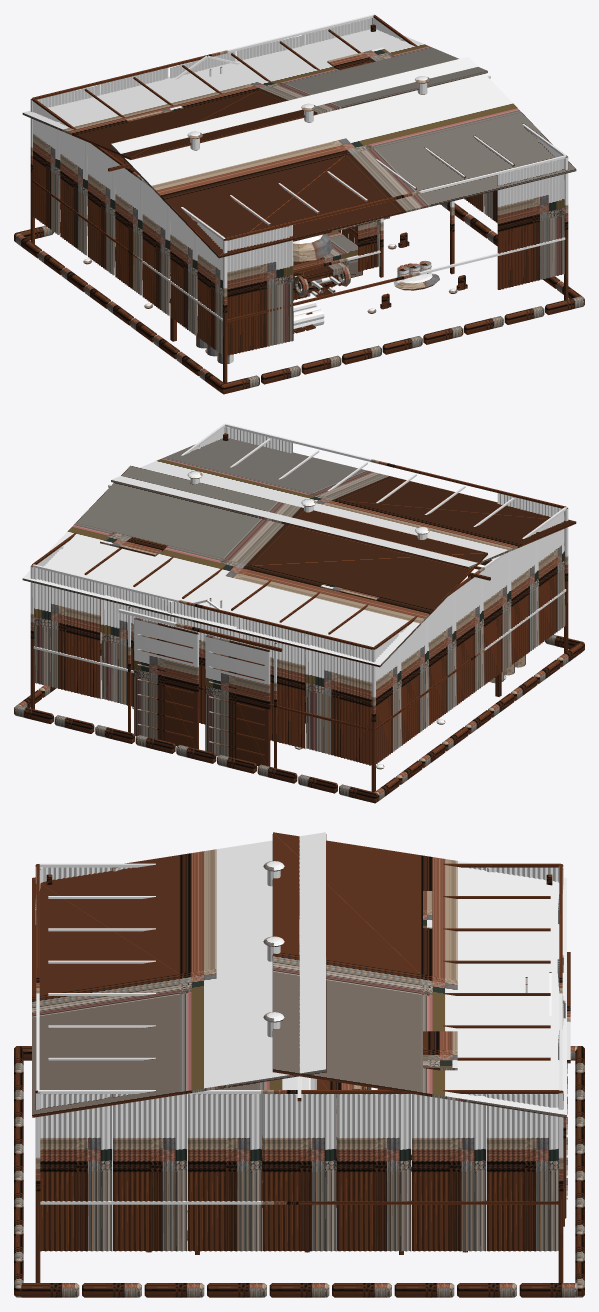
File: works.glb
The picture shows the model from 3 angles, top to bottom: view 1: azimuth 30°, elevation 25°; view 2: azimuth 150°, elevation 25°; view 3: azimuth 270°, elevation 25°; orthographic projection. The views are drawn at different scales.
Visible parts, largest first — view 1: warehouse-tin-hall-roof-plane-1, warehouse-tin-hall-roof-plane--1, warehouse-tin-hall-wall-sheet-1-4, warehouse-tin-hall-wall-sheet-1-0, warehouse-tin-hall-side-sheet--1-4, warehouse-tin-hall-side-sheet--1-3, warehouse-tin-hall-side-sheet--1-2, warehouse-tin-hall-side-sheet--1-1, warehouse-tin-hall-side-sheet--1-0, warehouse-tin-hall-side-sheet--1-5, warehouse-tin-hall-side-sheet--1-6, warehouse-tin-hall-front-girt-8.7-10.25 (+15 smaller); view 2: warehouse-tin-hall-roof-plane--1, warehouse-tin-hall-roof-plane-1, warehouse-loading-door-leaf--1, warehouse-loading-door-leaf-1, warehouse-tin-hall-wall-sheet--1-0, warehouse-tin-hall-wall-sheet--1-4, warehouse-tin-hall-wall-sheet--1-1, warehouse-tin-hall-wall-sheet--1-3, warehouse-tin-hall-side-sheet--1-4, warehouse-tin-hall-side-sheet--1-3, warehouse-tin-hall-side-sheet--1-2, warehouse-tin-hall-side-sheet--1-5 (+15 smaller); view 3: warehouse-tin-hall-roof-plane-1, warehouse-tin-hall-roof-plane--1, warehouse-tin-hall-side-sheet-1-4, warehouse-tin-hall-side-sheet-1-2, warehouse-tin-hall-side-sheet-1-3, warehouse-tin-hall-side-sheet-1-5, warehouse-tin-hall-side-sheet-1-1, warehouse-tin-hall-side-sheet-1-0, warehouse-tin-hall-side-sheet-1-6, warehouse-tin-hall-side-girt-3.9149999999999996-10.5, warehouse-roof-repair-7--5, warehouse-tin-hall-side-girt-8.7-10.5 (+23 smaller).
Boxes of the visible parts, left/top/right/bottom form: warehouse-tin-hall-roof-plane-1: left=111, top=56, right=576, bottom=258; warehouse-tin-hall-roof-plane--1: left=22, top=28, right=487, bottom=159; warehouse-tin-hall-wall-sheet-1-4: left=497, top=159, right=564, bottom=289; warehouse-tin-hall-wall-sheet-1-0: left=227, top=225, right=293, bottom=355; warehouse-tin-hall-side-sheet--1-4: left=142, top=182, right=170, bottom=315; warehouse-tin-hall-side-sheet--1-3: left=115, top=162, right=142, bottom=295; warehouse-tin-hall-side-sheet--1-2: left=88, top=142, right=115, bottom=275; warehouse-tin-hall-side-sheet--1-1: left=60, top=121, right=87, bottom=255; warehouse-tin-hall-side-sheet--1-0: left=33, top=101, right=60, bottom=234; warehouse-tin-hall-side-sheet--1-5: left=170, top=208, right=197, bottom=335; warehouse-tin-hall-side-sheet--1-6: left=197, top=222, right=222, bottom=355; warehouse-tin-hall-front-girt-8.7-10.25: left=225, top=155, right=566, bottom=240; warehouse-tin-hall-roof-plane--1: left=22, top=465, right=487, bottom=667; warehouse-tin-hall-roof-plane-1: left=111, top=438, right=576, bottom=568; warehouse-loading-door-leaf--1: left=205, top=635, right=270, bottom=766; warehouse-loading-door-leaf-1: left=134, top=617, right=198, bottom=749; warehouse-tin-hall-wall-sheet--1-0: left=305, top=634, right=372, bottom=765; warehouse-tin-hall-wall-sheet--1-4: left=32, top=567, right=100, bottom=698; warehouse-tin-hall-wall-sheet--1-1: left=236, top=617, right=305, bottom=748; warehouse-tin-hall-wall-sheet--1-3: left=101, top=584, right=168, bottom=707; warehouse-tin-hall-side-sheet--1-4: left=483, top=551, right=511, bottom=684; warehouse-tin-hall-side-sheet--1-3: left=456, top=571, right=484, bottom=704; warehouse-tin-hall-side-sheet--1-2: left=428, top=591, right=457, bottom=724; warehouse-tin-hall-side-sheet--1-5: left=510, top=531, right=539, bottom=664; warehouse-tin-hall-roof-plane-1: left=32, top=832, right=326, bottom=1117; warehouse-tin-hall-roof-plane--1: left=272, top=832, right=566, bottom=1117; warehouse-tin-hall-side-sheet-1-4: left=187, top=1094, right=261, bottom=1251; warehouse-tin-hall-side-sheet-1-2: left=337, top=1094, right=411, bottom=1251; warehouse-tin-hall-side-sheet-1-3: left=262, top=1094, right=336, bottom=1251; warehouse-tin-hall-side-sheet-1-5: left=113, top=1094, right=186, bottom=1251; warehouse-tin-hall-side-sheet-1-1: left=412, top=1094, right=485, bottom=1251; warehouse-tin-hall-side-sheet-1-0: left=486, top=1094, right=558, bottom=1251; warehouse-tin-hall-side-sheet-1-6: left=40, top=1094, right=112, bottom=1251; warehouse-tin-hall-side-girt-3.9149999999999996-10.5: left=40, top=1200, right=558, bottom=1204; warehouse-roof-repair-7--5: left=423, top=1031, right=457, bottom=1070; warehouse-tin-hall-side-girt-8.7-10.5: left=38, top=1090, right=560, bottom=1093.
Size of the model in its own units: 23.52 by 11.77 by 22.38.
Materials: 9 (9 with a texture image).
